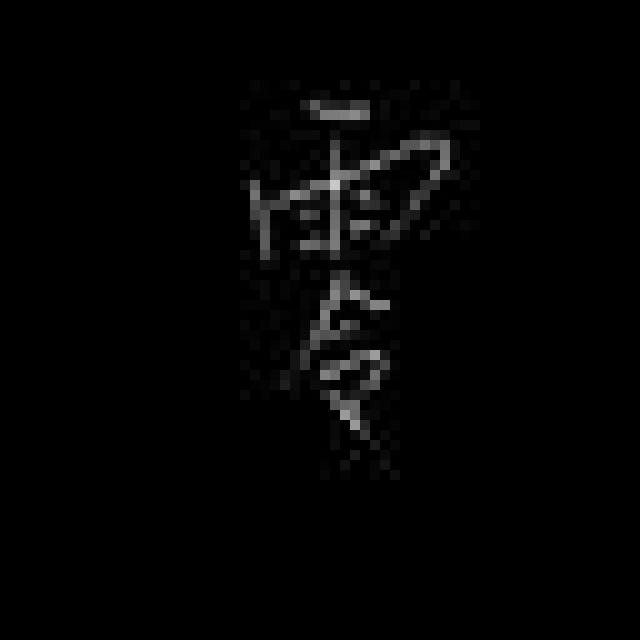0 -zero-: (227, 88, 462, 447)
